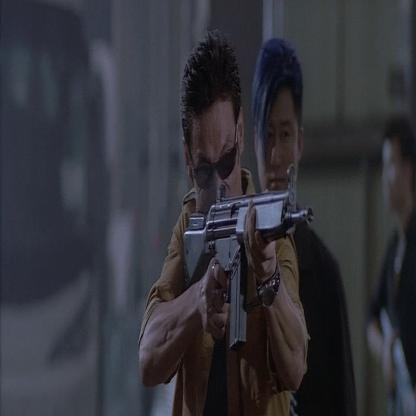gun: (175, 165, 309, 362)
